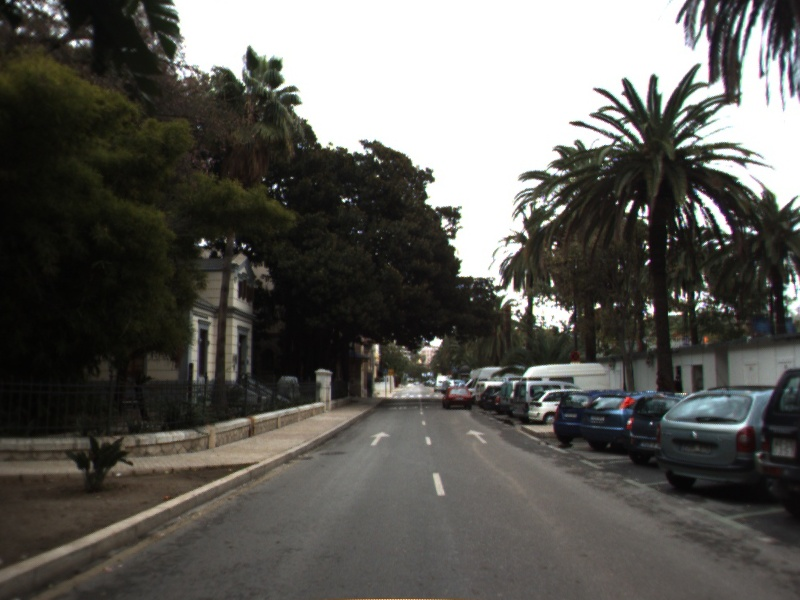STRAIGHT: (464, 427, 489, 445), (368, 430, 392, 447)
